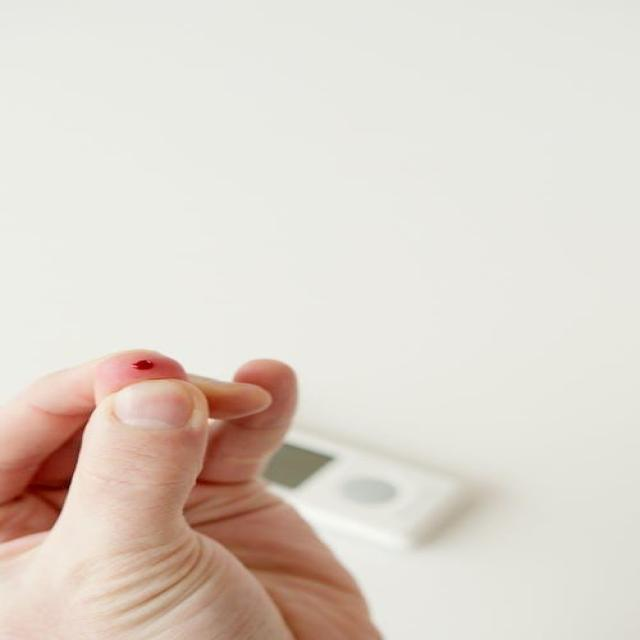flood: (134, 358, 154, 372)
